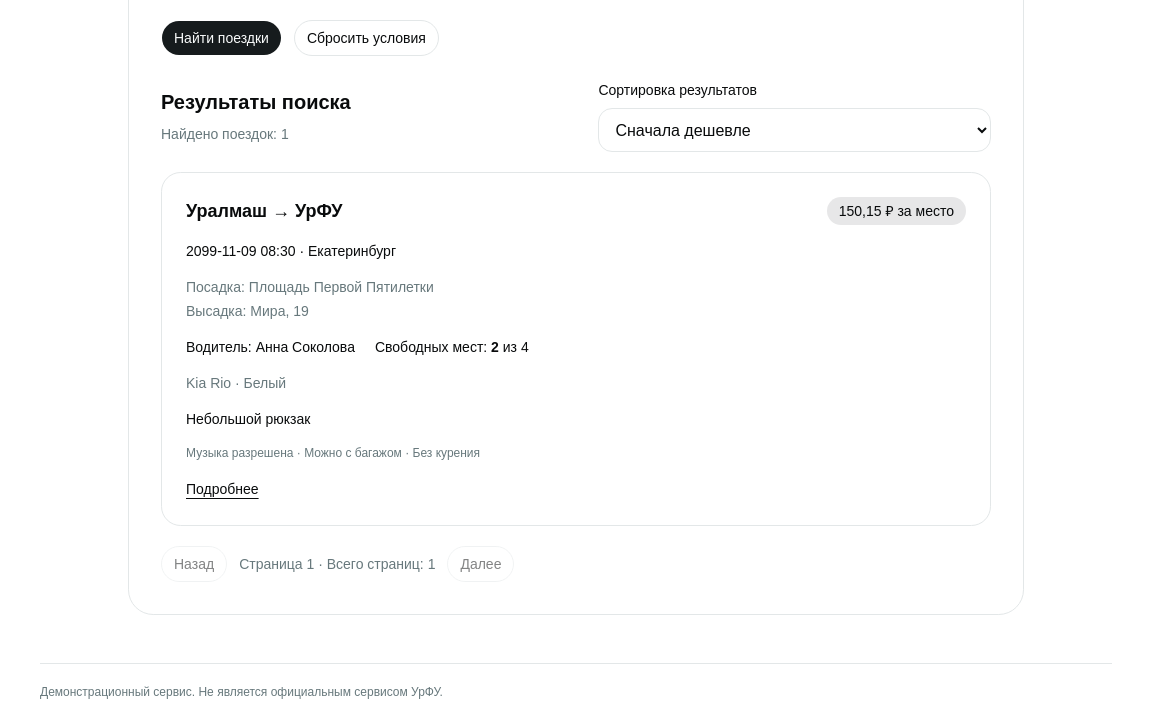
Test: анонимный поиск получает карточки из API и сохраняет состояние после перехода туда и обратно
(page scrolled)
Expected: the heading "Уралмаш → УрФУ" is shown, [186,197,342,225]
Click the link with aria-label "Подробнее:" at (222, 489), box [186,479,259,499]
(page scrolled)
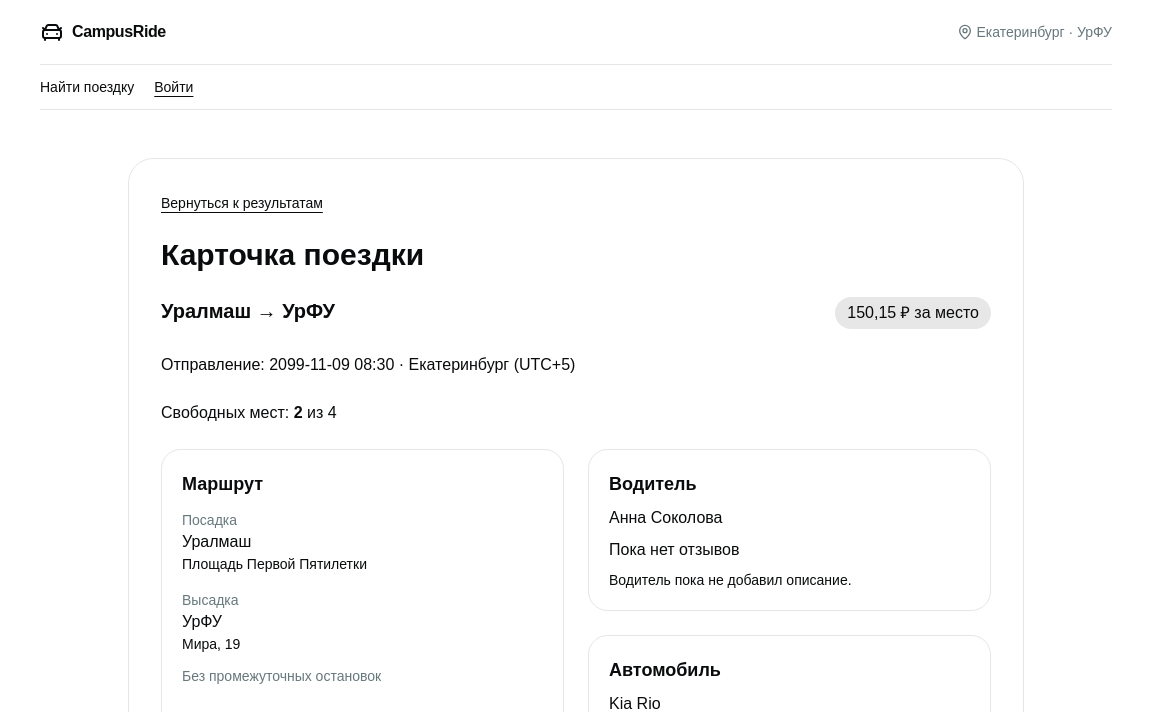
Result: the heading "Карточка поездки" is shown at [161,238,424,271]
Result: the text "Пока нет отзывов" is shown at [609,541,740,558]
Click the link "Вернуться к результатам" at (242, 203), box [161,193,323,213]
(page scrolled)
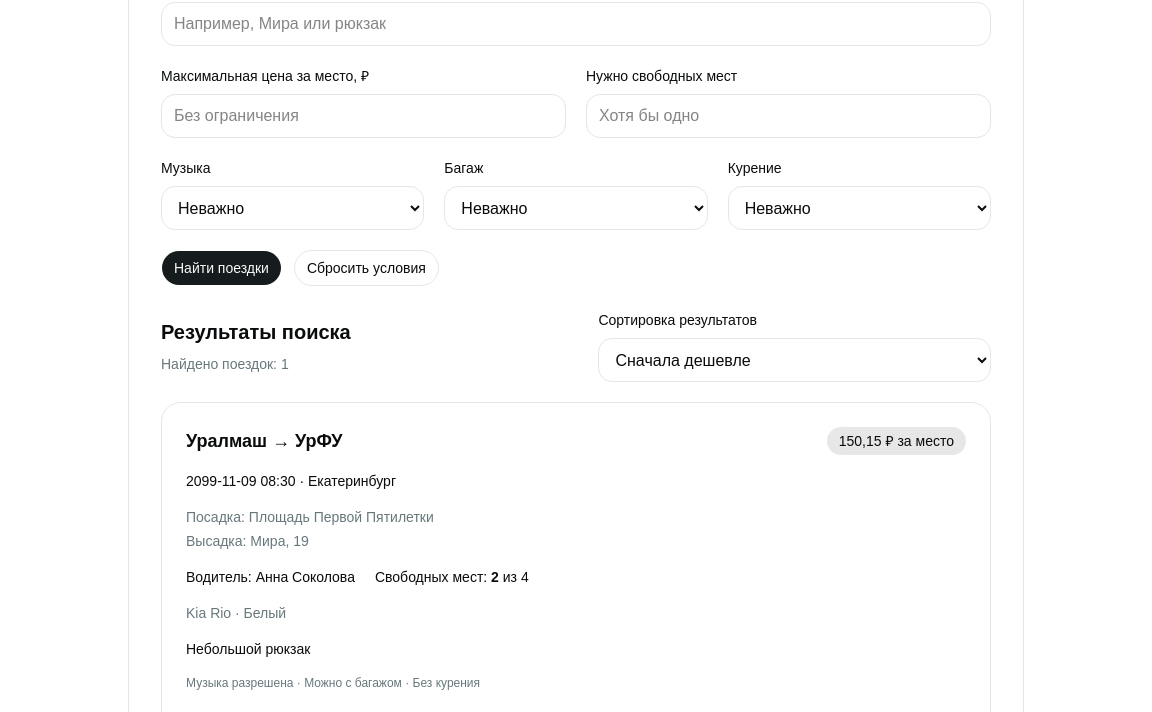
Expected: the heading "Уралмаш → УрФУ" is shown, [186,427,342,455]
Result: the dropdown labelled "Сортировка результатов" shows "Сначала дешевле" at [598,338,991,382]
